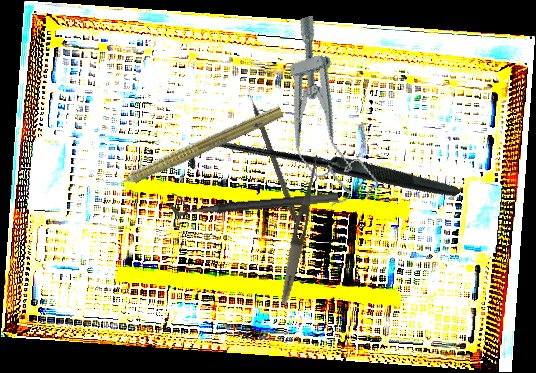Dressing Forceps: (277, 153, 323, 306)
Fixation Ring: (169, 178, 339, 218)
Handpiece: (94, 98, 286, 201)
Hook Surgical: (182, 34, 461, 314), (245, 85, 301, 224)
Speculum: (260, 11, 382, 213)
